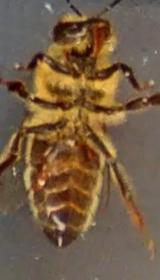varroa_mite: (27, 166, 51, 197), (77, 140, 103, 162)
